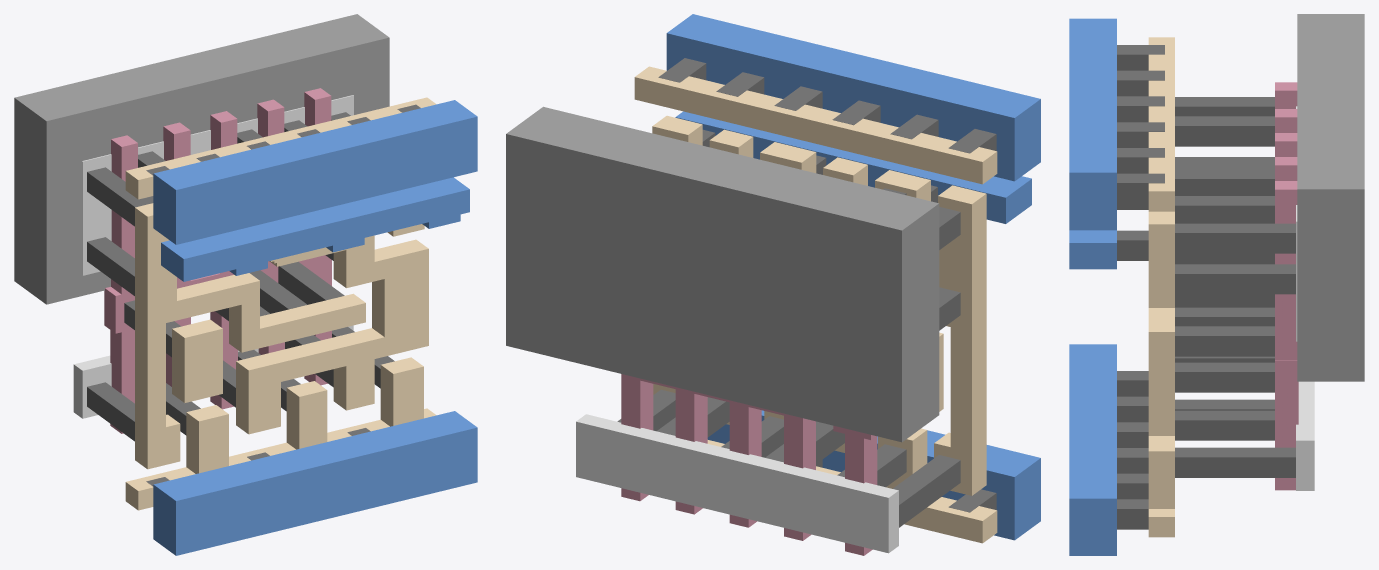
File: sky130_fd_sc_hd__lpflow_clkbufkapwr_4.gds.gltf
The picture shows the model from 3 angles, left to right: view 1: azimuth 30°, elevation 25°; view 2: azimuth 150°, elevation 25°; view 3: azimuth 270°, elevation 25°; orthographic projection. The views are drawn at different scales.
Visible parts, largest first — view 1: sky130_fd_sc_hd__lpflow_clkbufkapwr_4_met1, sky130_fd_sc_hd__lpflow_clkbufkapwr_4_li1, sky130_fd_sc_hd__lpflow_clkbufkapwr_4_nwell, sky130_fd_sc_hd__lpflow_clkbufkapwr_4_licon, sky130_fd_sc_hd__lpflow_clkbufkapwr_4_poly, sky130_fd_sc_hd__lpflow_clkbufkapwr_4_diff, sky130_fd_sc_hd__lpflow_clkbufkapwr_4_mcon; view 2: sky130_fd_sc_hd__lpflow_clkbufkapwr_4_nwell, sky130_fd_sc_hd__lpflow_clkbufkapwr_4_li1, sky130_fd_sc_hd__lpflow_clkbufkapwr_4_met1, sky130_fd_sc_hd__lpflow_clkbufkapwr_4_diff, sky130_fd_sc_hd__lpflow_clkbufkapwr_4_poly, sky130_fd_sc_hd__lpflow_clkbufkapwr_4_licon, sky130_fd_sc_hd__lpflow_clkbufkapwr_4_mcon; view 3: sky130_fd_sc_hd__lpflow_clkbufkapwr_4_licon, sky130_fd_sc_hd__lpflow_clkbufkapwr_4_nwell, sky130_fd_sc_hd__lpflow_clkbufkapwr_4_met1, sky130_fd_sc_hd__lpflow_clkbufkapwr_4_li1, sky130_fd_sc_hd__lpflow_clkbufkapwr_4_mcon, sky130_fd_sc_hd__lpflow_clkbufkapwr_4_poly, sky130_fd_sc_hd__lpflow_clkbufkapwr_4_diff.
Boxes of the visible parts, x1=… form: sky130_fd_sc_hd__lpflow_clkbufkapwr_4_met1: x1=153, y1=100, x2=477, y2=555; sky130_fd_sc_hd__lpflow_clkbufkapwr_4_li1: x1=125, y1=97, x2=436, y2=510; sky130_fd_sc_hd__lpflow_clkbufkapwr_4_nwell: x1=14, y1=14, x2=389, y2=304; sky130_fd_sc_hd__lpflow_clkbufkapwr_4_licon: x1=87, y1=112, x2=394, y2=441; sky130_fd_sc_hd__lpflow_clkbufkapwr_4_poly: x1=104, y1=88, x2=331, y2=433; sky130_fd_sc_hd__lpflow_clkbufkapwr_4_diff: x1=73, y1=95, x2=353, y2=418; sky130_fd_sc_hd__lpflow_clkbufkapwr_4_mcon: x1=146, y1=104, x2=420, y2=486; sky130_fd_sc_hd__lpflow_clkbufkapwr_4_nwell: x1=506, y1=106, x2=939, y2=442; sky130_fd_sc_hd__lpflow_clkbufkapwr_4_li1: x1=634, y1=66, x2=997, y2=543; sky130_fd_sc_hd__lpflow_clkbufkapwr_4_met1: x1=666, y1=14, x2=1040, y2=540; sky130_fd_sc_hd__lpflow_clkbufkapwr_4_diff: x1=576, y1=414, x2=898, y2=553; sky130_fd_sc_hd__lpflow_clkbufkapwr_4_poly: x1=621, y1=374, x2=877, y2=555; sky130_fd_sc_hd__lpflow_clkbufkapwr_4_licon: x1=617, y1=188, x2=960, y2=527; sky130_fd_sc_hd__lpflow_clkbufkapwr_4_mcon: x1=658, y1=58, x2=996, y2=512; sky130_fd_sc_hd__lpflow_clkbufkapwr_4_licon: x1=1175, y1=97, x2=1295, y2=477; sky130_fd_sc_hd__lpflow_clkbufkapwr_4_nwell: x1=1297, y1=14, x2=1364, y2=381; sky130_fd_sc_hd__lpflow_clkbufkapwr_4_met1: x1=1069, y1=18, x2=1116, y2=555; sky130_fd_sc_hd__lpflow_clkbufkapwr_4_li1: x1=1148, y1=37, x2=1174, y2=537; sky130_fd_sc_hd__lpflow_clkbufkapwr_4_mcon: x1=1117, y1=45, x2=1164, y2=529; sky130_fd_sc_hd__lpflow_clkbufkapwr_4_poly: x1=1275, y1=82, x2=1298, y2=490; sky130_fd_sc_hd__lpflow_clkbufkapwr_4_diff: x1=1296, y1=106, x2=1314, y2=490.
Size of the model in its own units: 3.14 by 3.2 by 2.24.
